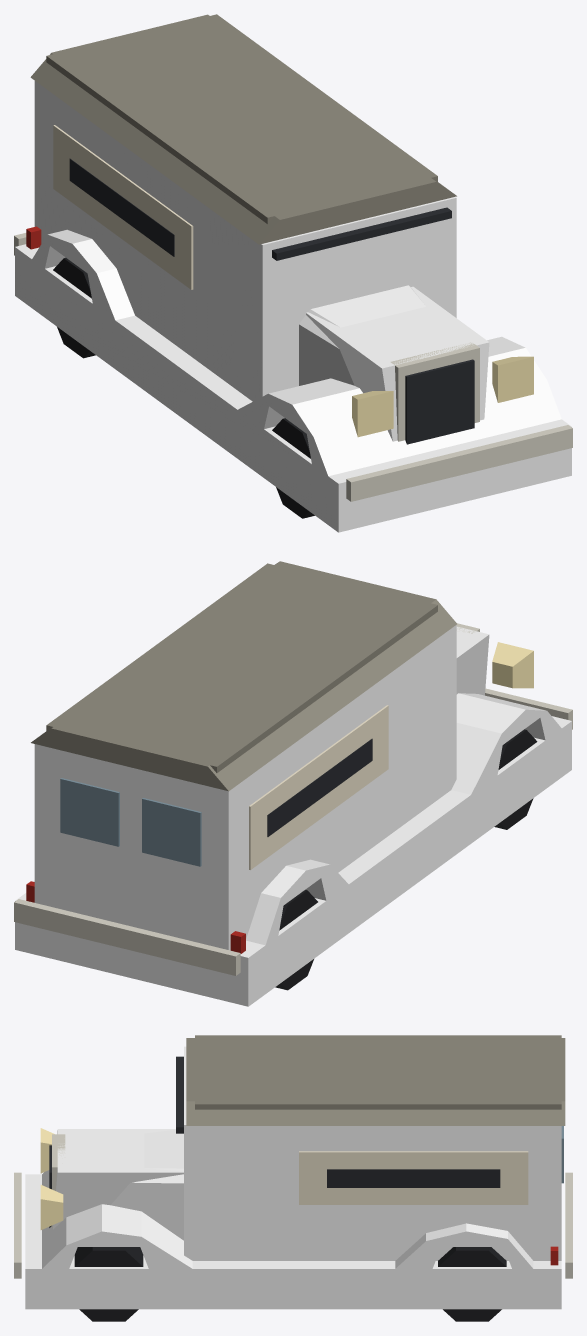
The model's file is van.glb.
3 views of the same model, one above another, from view 1: azimuth 30°, elevation 25°; view 2: azimuth 150°, elevation 25°; view 3: azimuth 270°, elevation 25° (orthographic). The views are drawn at different scales.
Parts seen in each view (by area): view 1: far, model; view 2: far, model; view 3: far, model.
Part boxes in pixels (left/top/right/bottom): far: left=15, top=14, right=571, bottom=532; model: left=14, top=14, right=572, bottom=518; far: left=15, top=563, right=571, bottom=1006; model: left=14, top=561, right=572, bottom=990; far: left=25, top=1035, right=561, bottom=1309; model: left=14, top=1038, right=572, bottom=1321.
Bounding box in the file's own units: 2 × 2.04 × 5.
